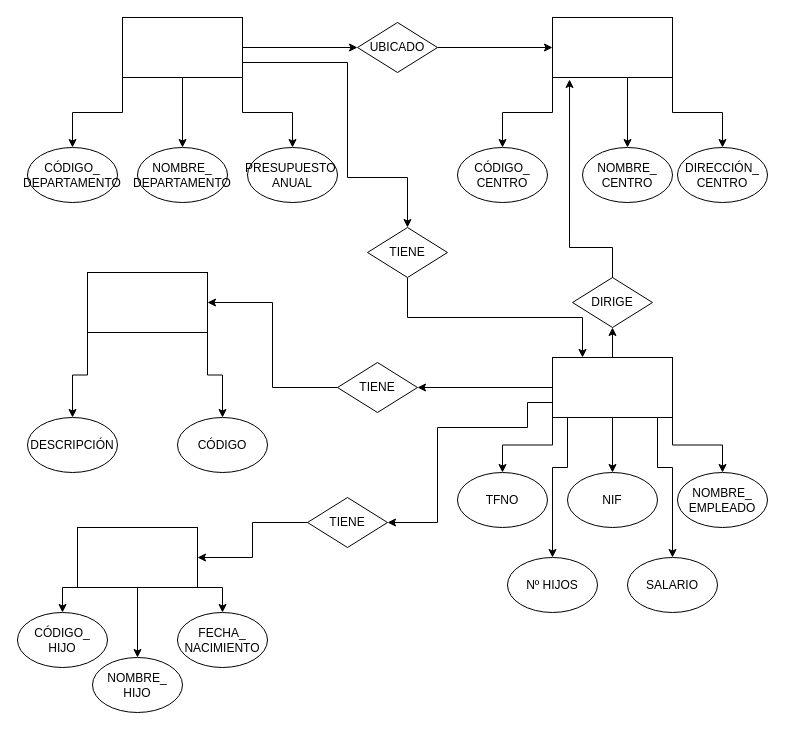
This 785x730 diagram has some shape labels left out. The shapes that lost their labels are listed below. From the top down, each one's box as (x1, y1, x2, y2) in pixels, then its label:
(122, 16, 242, 78): DEPARTAMENTOS
(552, 16, 672, 78): CENTROS
(86, 272, 208, 332): HABILIDADES
(552, 356, 672, 418): EMPLEADOS
(76, 526, 198, 588): HIJOS
